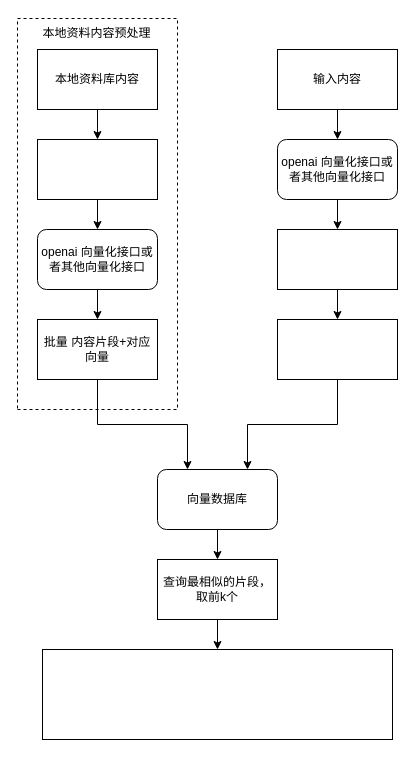
Image size: 415x757. Some labels were removed from this diagram. Each missing label, with the centre of its shape:
"与本地资料内容计算向量相似度" goes at point 337,349.
"带上提问内容及查询出来的相似内容片段作为prompt，使gpt基于提供的内容片段回答用户提问" goes at point 217,694.
"拆分多个内容片段" goes at point 97,169.
"输入内容对应的向量" goes at point 337,259.
